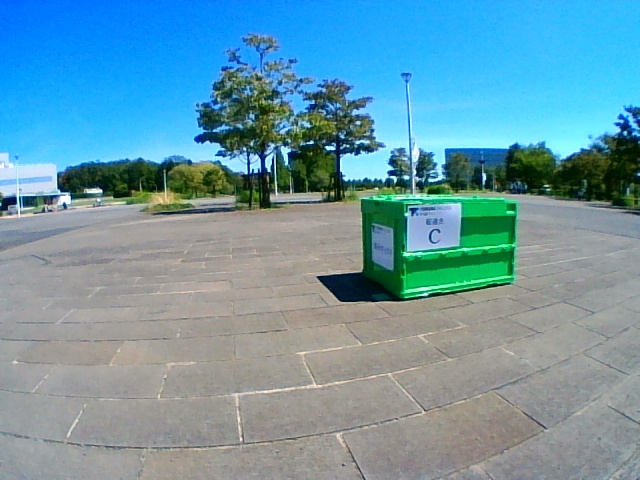green_box: (361, 194, 516, 300)
tag_c: (408, 206, 460, 247)
